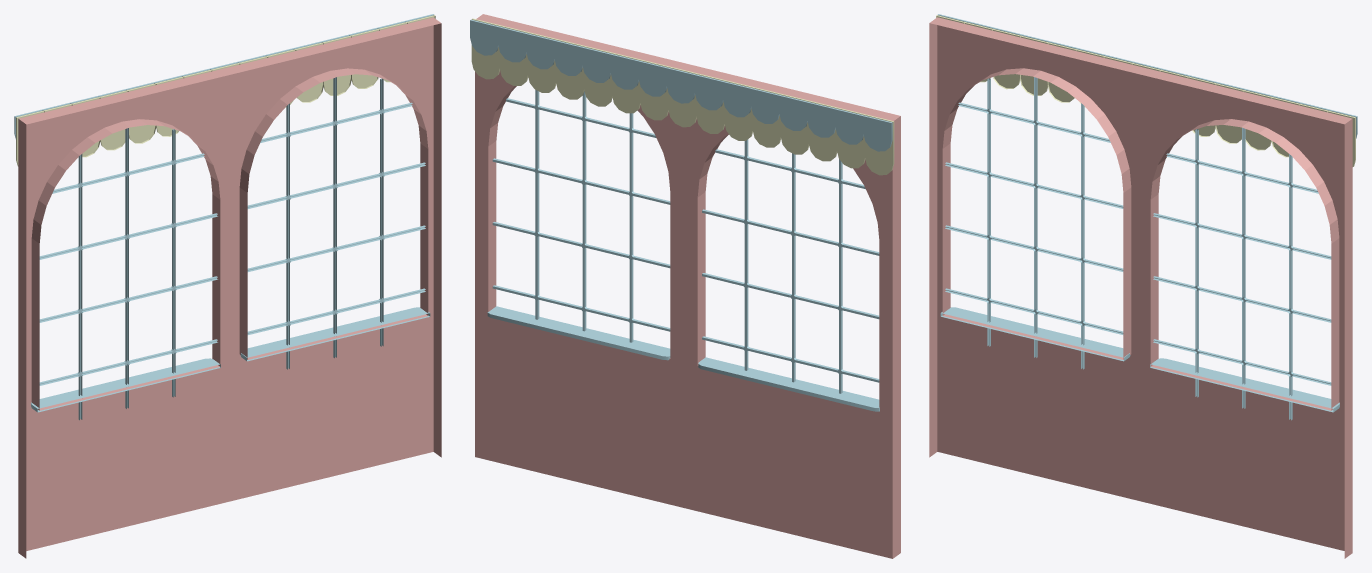
File: wall.fbx
The picture shows the model from 3 angles, left to right: view 1: azimuth 30°, elevation 25°; view 2: azimuth 150°, elevation 25°; view 3: azimuth 330°, elevation 25°; orthographic projection.
Parts seen in each view (by area): view 1: Cube.181; view 2: Cube.181; view 3: Cube.181.
Part boxes in pixels (x1,y1,x2,y2): Cube.181: [14, 14, 441, 558]; Cube.181: [470, 14, 900, 558]; Cube.181: [929, 14, 1357, 558].
Size of the model in its own units: 1211 by 1203 by 53.15.
